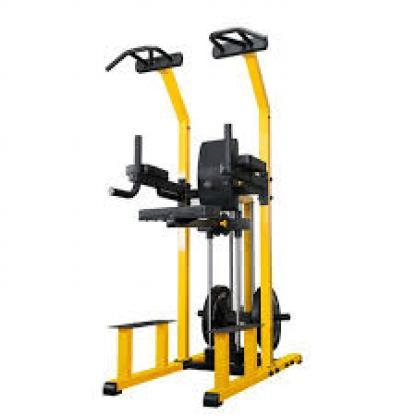chinning dipping: (103, 26, 303, 407)
